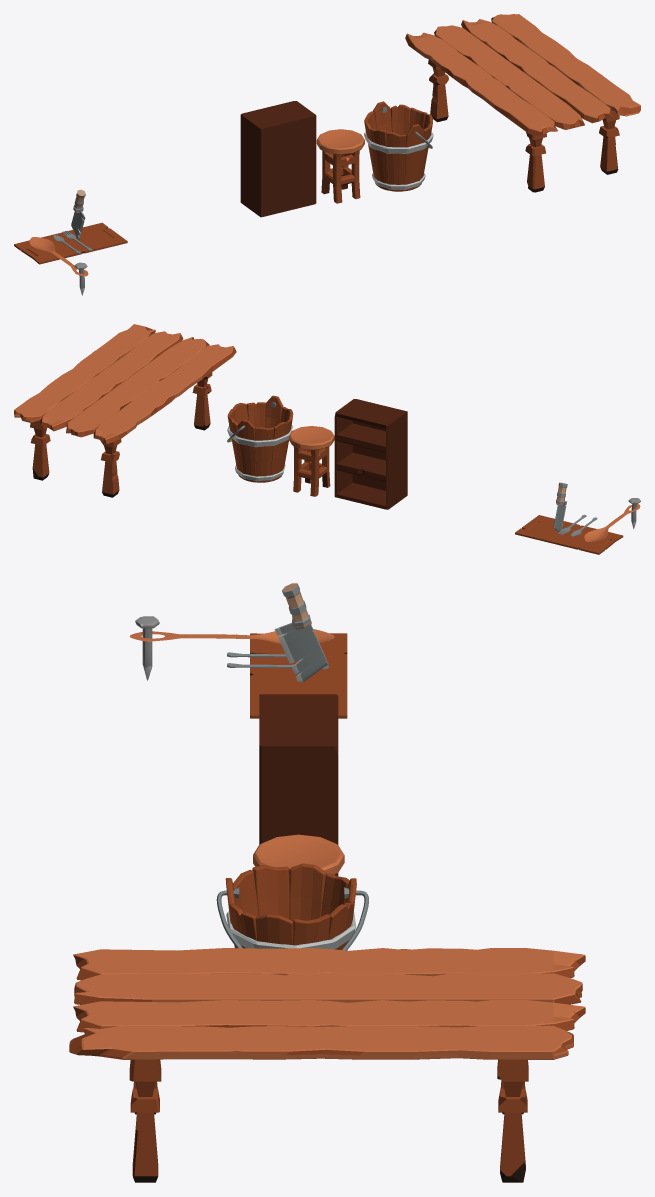
3 views of the same model, one above another, from view 1: azimuth 30°, elevation 25°; view 2: azimuth 150°, elevation 25°; view 3: azimuth 270°, elevation 25° (orthographic). The views are drawn at different scales.
Parts seen in each view (by area): view 1: Table, ShelfForJars, Bucket, HalfChair, cutting board, Knive, LongSpoon; view 2: Table, ShelfForJars, Bucket, HalfChair, cutting board, Knive, LongSpoon; view 3: Table, ShelfForJars, Bucket, cutting board, Knive, HalfChair, LongSpoon, BucketHandle.
Boxes of the visible parts, box(x1,y1,x2,y2) form: Table: box(405, 14, 640, 192); ShelfForJars: box(240, 101, 316, 217); Bucket: box(364, 101, 433, 191); HalfChair: box(316, 129, 364, 203); cutting board: box(14, 222, 127, 264); Knive: box(71, 189, 85, 240); LongSpoon: box(29, 237, 88, 276); Table: box(14, 324, 236, 497); ShelfForJars: box(334, 399, 407, 509); Bucket: box(227, 395, 293, 482); HalfChair: box(289, 426, 334, 496); cutting board: box(515, 515, 623, 554); Knive: box(553, 482, 567, 531); LongSpoon: box(584, 504, 640, 542); Table: box(69, 948, 585, 1182); ShelfForJars: box(259, 694, 338, 875); Bucket: box(225, 863, 356, 950); cutting board: box(250, 633, 347, 718); Knive: box(274, 583, 328, 682); HalfChair: box(253, 834, 344, 874); LongSpoon: box(129, 629, 334, 643); BucketHandle: box(216, 887, 368, 950).
Bounding box in the file's own units: 1852 × 311 × 776.
